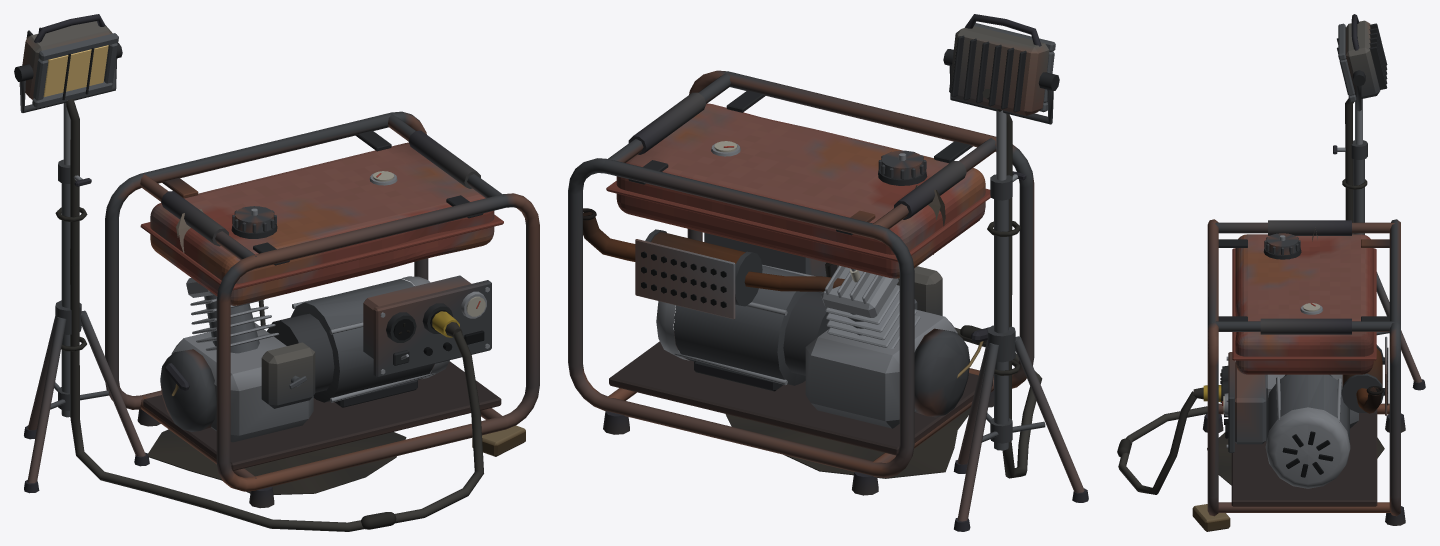
Rendered from generator.glb.
3 views of the same model, side by side, from view 1: azimuth 30°, elevation 25°; view 2: azimuth 150°, elevation 25°; view 3: azimuth 270°, elevation 25° (orthographic). The views are drawn at different scales.
Parts seen in each view (by area): view 1: generator; view 2: generator; view 3: generator.
Boxes of the visible parts, x1,y1,x2,y2 form: generator: (14, 14, 539, 531); generator: (568, 14, 1088, 531); generator: (1117, 14, 1425, 531).
Bounding box in the file's own units: 1.16 × 1.1 × 0.8469.
